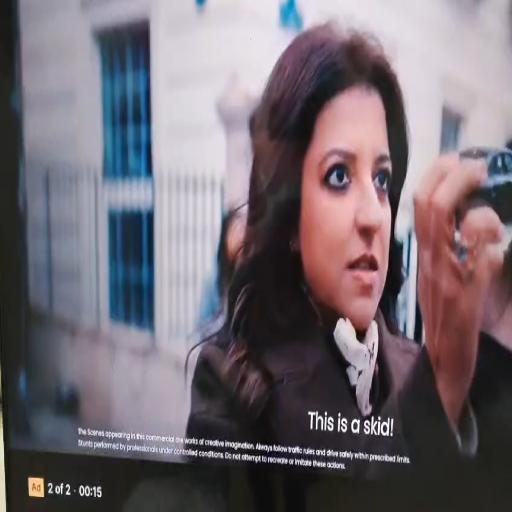ad label: (27, 473, 46, 499)
